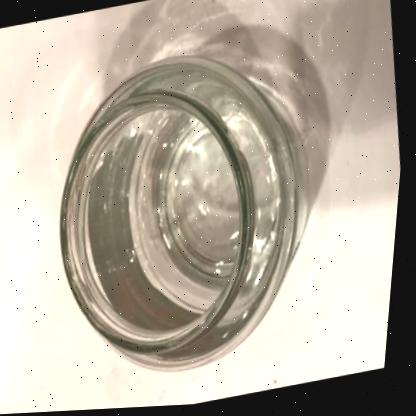Glass: (63, 58, 312, 373)
